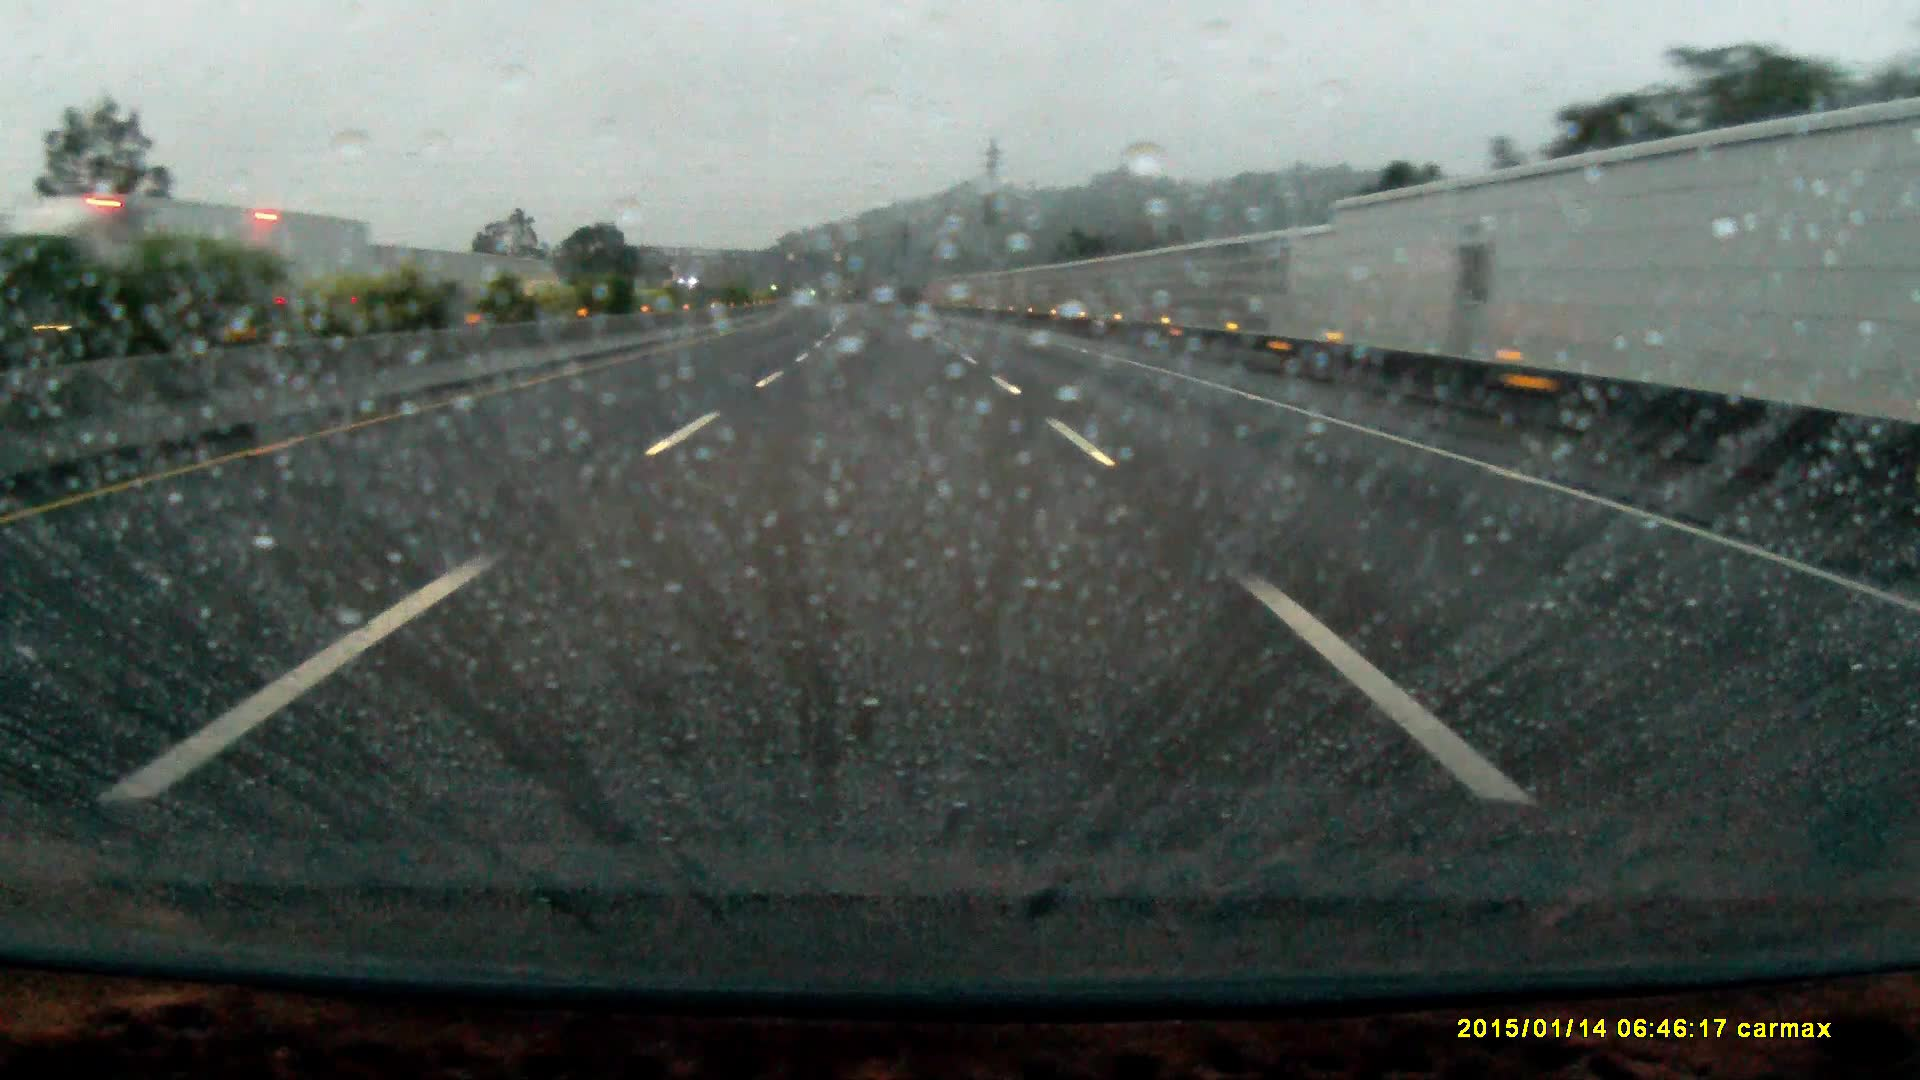vehicle: (41, 204, 338, 339)
